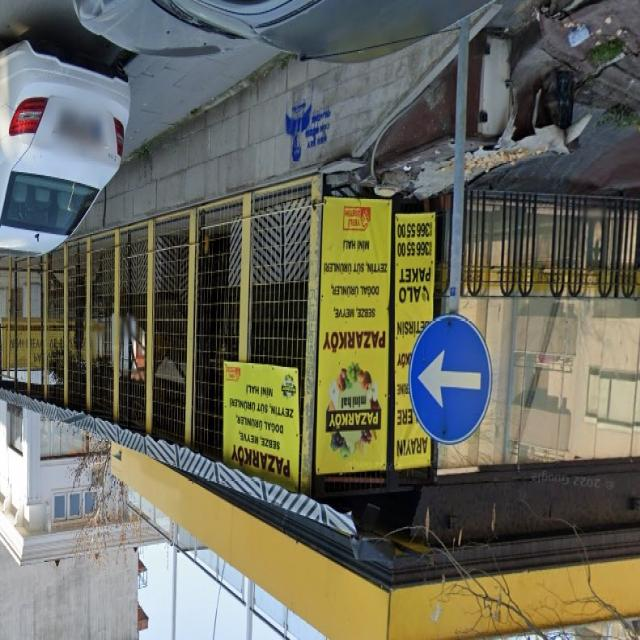Turn Left: (408, 314, 494, 449)
